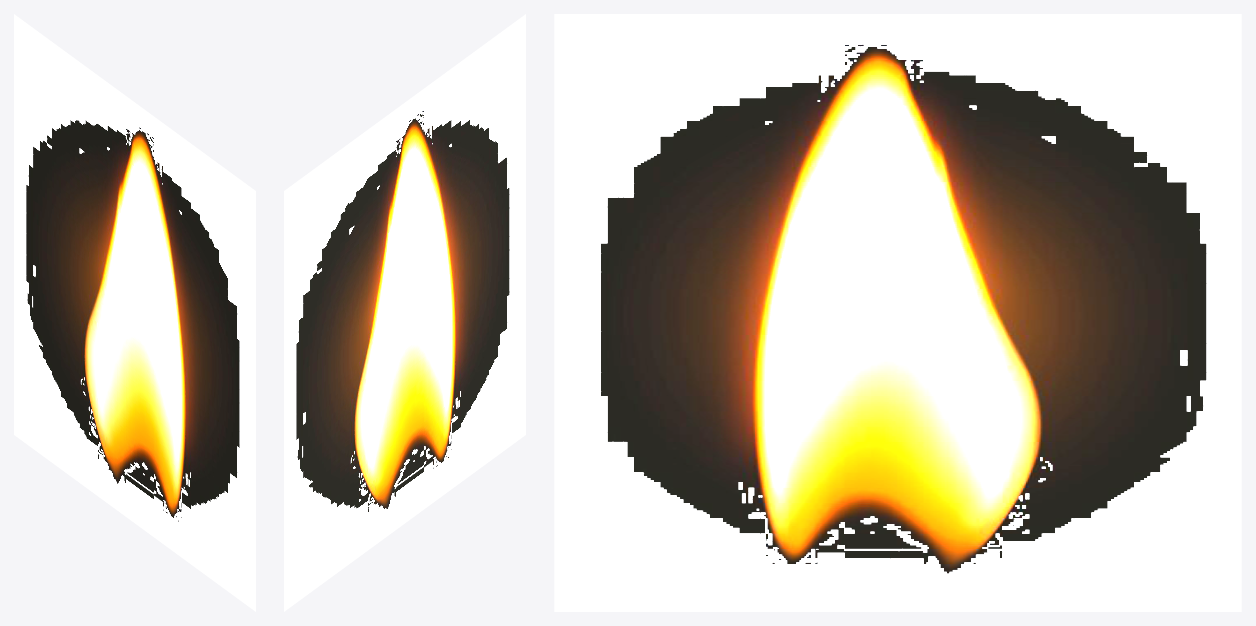
The picture shows the model from 3 angles, left to right: view 1: azimuth 30°, elevation 25°; view 2: azimuth 150°, elevation 25°; view 3: azimuth 270°, elevation 25°; orthographic projection. The views are drawn at different scales.
Parts seen in each view (by area): view 1: _46; view 2: _46; view 3: _46.
Part boxes in pixels (<box>): _46: <box>14,14,255,611</box>; _46: <box>284,14,525,611</box>; _46: <box>554,14,1241,611</box>.
Size of the model in its own units: 7.88e-06 by 7.1 by 7.39.
